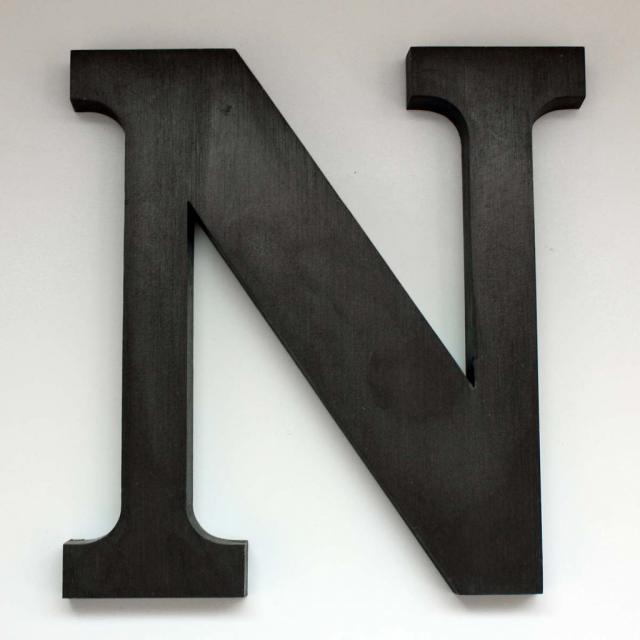N: (32, 24, 594, 629)
